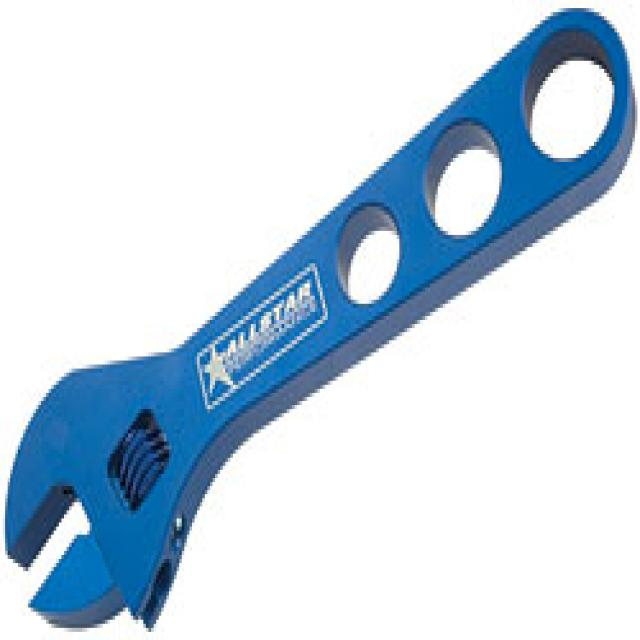wrench: (4, 23, 460, 640)
